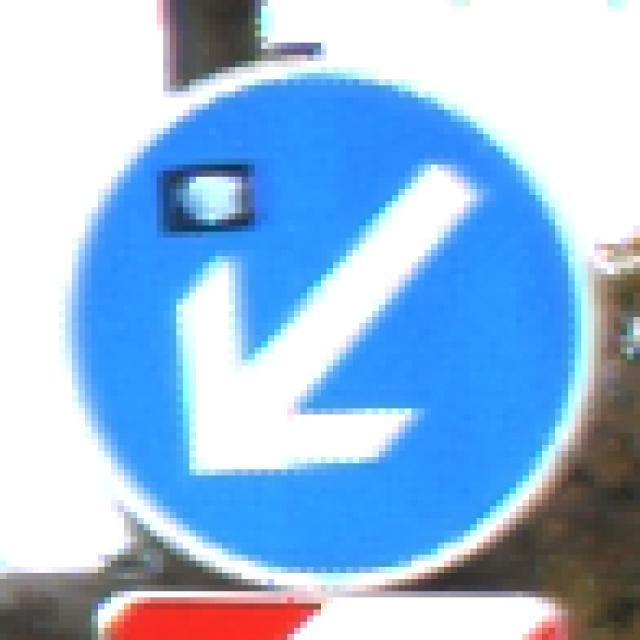compulsary keep left: (67, 58, 594, 587)
